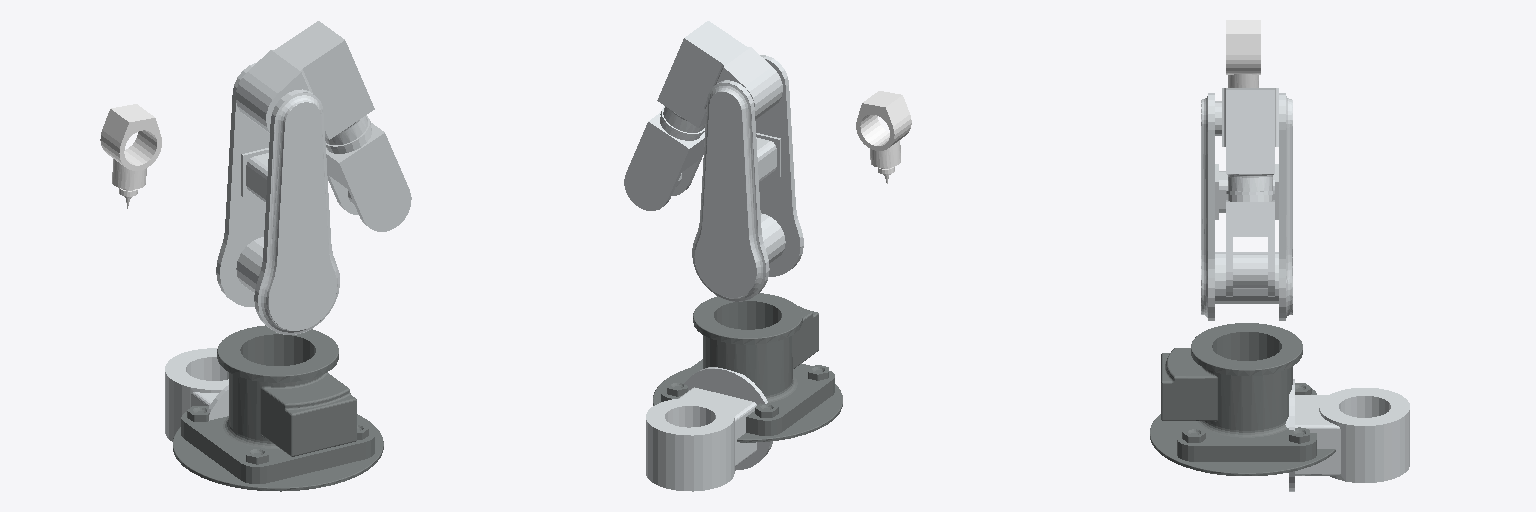
robot.urdf — assembly:
<?xml version="1.0" encoding="utf-8"?>
<!-- This URDF was automatically created by SolidWorks to URDF Exporter! Originally created by [author] ([email redacted]) 
     Commit Version: 1.6.0-4-g7f85cfe  Build Version: 1.6.7995.38578
     For more information, please see http://wiki.ros.org/sw_urdf_exporter -->
<robot
  name="assembly">
  <link
    name="base_link">
    <inertial>
      <origin
        xyz="7.28821085427267E-09 -0.0312986108746524 0.0932096931732312"
        rpy="0 0 0" />
      <mass
        value="156.384128910965" />
      <inertia
        ixx="3.31161275817224"
        ixy="1.76037861498254E-07"
        ixz="4.56149719410909E-07"
        iyy="2.65331734095352"
        iyz="0.319657739922467"
        izz="3.8905939609168" />
    </inertial>
    <visual>
      <origin
        xyz="0 0 0"
        rpy="0 0 0" />
      <geometry>
        <mesh
          filename="package://assembly/meshes/base_link.STL" />
      </geometry>
      <material
        name="">
        <color
          rgba="0.529411764705882 0.549019607843137 0.549019607843137 1" />
      </material>
    </visual>
    <collision>
      <origin
        xyz="0 0 0"
        rpy="0 0 0" />
      <geometry>
        <mesh
          filename="package://assembly/meshes/base_link.STL" />
      </geometry>
    </collision>
  </link>
  <link
    name="link_1">
    <inertial>
      <origin
        xyz="1.56254648109311E-10 -7.8860200028437E-16 0.373075746734315"
        rpy="0 0 0" />
      <mass
        value="39.1896246119642" />
      <inertia
        ixx="0.759744390185537"
        ixy="-3.39614758921302E-09"
        ixz="3.42502037078622E-09"
        iyy="0.831766902274228"
        iyz="-5.07622894875523E-17"
        izz="0.295622833052641" />
    </inertial>
    <visual>
      <origin
        xyz="0 0 0"
        rpy="0 0 0" />
      <geometry>
        <mesh
          filename="package://assembly/meshes/link_1.STL" />
      </geometry>
      <material
        name="">
        <color
          rgba="0.898039215686275 0.917647058823529 0.929411764705882 1" />
      </material>
    </visual>
    <collision>
      <origin
        xyz="0 0 0"
        rpy="0 0 0" />
      <geometry>
        <mesh
          filename="package://assembly/meshes/link_1.STL" />
      </geometry>
    </collision>
  </link>
  <joint
    name="joint_1"
    type="revolute">
    <origin
      xyz="0 0 0"
      rpy="0 0 0" />
    <parent
      link="base_link" />
    <child
      link="link_1" />
    <axis
      xyz="0 0 1" />
    <limit
      lower="-3.142"
      upper="3.142"
      effort="300"
      velocity="3" />
  </joint>
  <link
    name="link_2">
    <inertial>
      <origin
        xyz="0 0.191560014270782 -4.38296331717335E-18"
        rpy="0 0 0" />
      <mass
        value="41.7432461481157" />
      <inertia
        ixx="1.9310205220817"
        ixy="-1.83315611639491E-16"
        ixz="4.05786478180328E-12"
        iyy="0.423793811309006"
        iyz="7.07949256278302E-17"
        izz="1.67596873799866" />
    </inertial>
    <visual>
      <origin
        xyz="0 0 0"
        rpy="0 0 0" />
      <geometry>
        <mesh
          filename="package://assembly/meshes/link_2.STL" />
      </geometry>
      <material
        name="">
        <color
          rgba="0.898039215686275 0.917647058823529 0.929411764705882 1" />
      </material>
    </visual>
    <collision>
      <origin
        xyz="0 0 0"
        rpy="0 0 0" />
      <geometry>
        <mesh
          filename="package://assembly/meshes/link_2.STL" />
      </geometry>
    </collision>
  </link>
  <joint
    name="joint_2"
    type="revolute">
    <origin
      xyz="0 0 0.496"
      rpy="1.5708 0 0" />
    <parent
      link="link_1" />
    <child
      link="link_2" />
    <axis
      xyz="0 0 1" />
    <limit
      lower="-1.57"
      upper="1.57"
      effort="200"
      velocity="3" />
  </joint>
  <link
    name="link_3">
    <inertial>
      <origin
        xyz="0.121182198441889 -0.136185998839769 -0.0100000000304142"
        rpy="0 0 0" />
      <mass
        value="32.5621952947336" />
      <inertia
        ixx="0.913688737120272"
        ixy="0.107723690437499"
        ixz="-1.2469518478925E-09"
        iyy="0.203128735188212"
        iyz="-2.19257304101205E-11"
        izz="1.00099194800661" />
    </inertial>
    <visual>
      <origin
        xyz="0 0 0"
        rpy="0 0 0" />
      <geometry>
        <mesh
          filename="package://assembly/meshes/link_3.STL" />
      </geometry>
      <material
        name="">
        <color
          rgba="0.898039215686275 0.917647058823529 0.929411764705882 1" />
      </material>
    </visual>
    <collision>
      <origin
        xyz="0 0 0"
        rpy="0 0 0" />
      <geometry>
        <mesh
          filename="package://assembly/meshes/link_3.STL" />
      </geometry>
    </collision>
  </link>
  <joint
    name="joint_3"
    type="revolute">
    <origin
      xyz="0 0.5 0"
      rpy="-3.1416 0 1.8978" />
    <parent
      link="link_2" />
    <child
      link="link_3" />
    <axis
      xyz="0 0 1" />
    <limit
      lower="-3.142"
      upper="0"
      effort="200"
      velocity="3" />
  </joint>
  <link
    name="link_4">
    <inertial>
      <origin
        xyz="4.894E-08 0.023871 0.01"
        rpy="0 0 0" />
      <mass
        value="2.1294" />
      <inertia
        ixx="0.01124"
        ixy="-3.2865E-09"
        ixz="2.2564E-09"
        iyy="0.0038688"
        iyz="8.7078E-11"
        izz="0.012163" />
    </inertial>
    <visual>
      <origin
        xyz="0 0 0"
        rpy="0 0 0" />
      <geometry>
        <mesh
          filename="package://assembly/meshes/link_4.STL" />
      </geometry>
      <material
        name="">
        <color
          rgba="1 1 1 1" />
      </material>
    </visual>
    <collision>
      <origin
        xyz="0 0 0"
        rpy="0 0 0" />
      <geometry>
        <mesh
          filename="package://assembly/meshes/link_4.STL" />
      </geometry>
    </collision>
  </link>
  <joint
    name="joint_4"
    type="revolute">
    <origin
      xyz="0.145 -0.42746 0"
      rpy="3.1416 0 -1.2438" />
    <parent
      link="link_3" />
    <child
      link="link_4" />
    <axis
      xyz="0 0 1" />
    <limit
      lower="-3.142"
      upper="0"
      effort="200"
      velocity="3" />
  </joint>
</robot>

--- Render facts (derived) ---
Views: 3 orthographic renders of the robot side by side, from view 1: azimuth 30°, elevation 25°; view 2: azimuth 150°, elevation 25°; view 3: azimuth 270°, elevation 25°.
Robot: assembly — 5 links, 4 joints (4 revolute); root link base_link; default pose: all joints at 0.
Links seen in each view (by area): view 1: base_link, link_2, link_3, link_1, link_4; view 2: link_2, base_link, link_3, link_1, link_4; view 3: base_link, link_3, link_1, link_2, link_4.
Link boxes in pixels (<box>): base_link: <box>173,325,383,491</box>; link_2: <box>216,63,339,334</box>; link_3: <box>236,21,411,231</box>; link_1: <box>165,348,228,441</box>; link_4: <box>100,104,161,208</box>; link_2: <box>692,55,803,301</box>; base_link: <box>653,293,842,442</box>; link_3: <box>624,21,782,210</box>; link_1: <box>646,367,772,491</box>; link_4: <box>856,91,911,183</box>; base_link: <box>1150,323,1335,475</box>; link_3: <box>1222,88,1278,296</box>; link_1: <box>1285,379,1409,491</box>; link_2: <box>1201,93,1292,320</box>; link_4: <box>1226,20,1260,87</box>.
Bounding box of the posed robot: 0.8865 × 0.7433 × 1.32 m (x, y, z).
5 mesh visuals loaded from 5 distinct referenced files (5 binary STL).